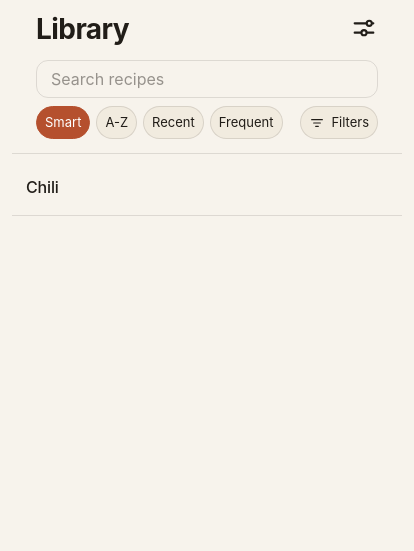
it: search › shows a distinct empty state for a search with no matches
The image size is (414, 551).
Type "nonexistent" into the field with test id "library-search-input" at (207, 79), box [36,60,378,98]
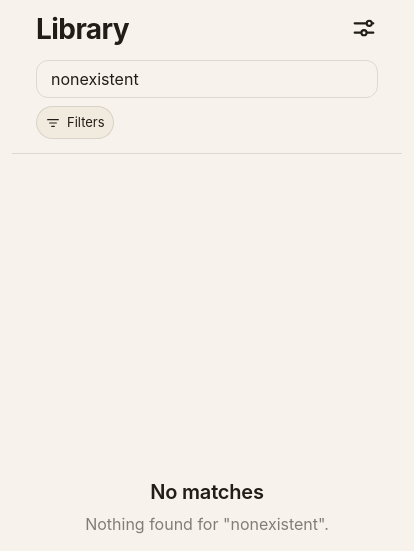
expect the element with test id "library-search-empty" is shown: met, box [85,480,329,534]
